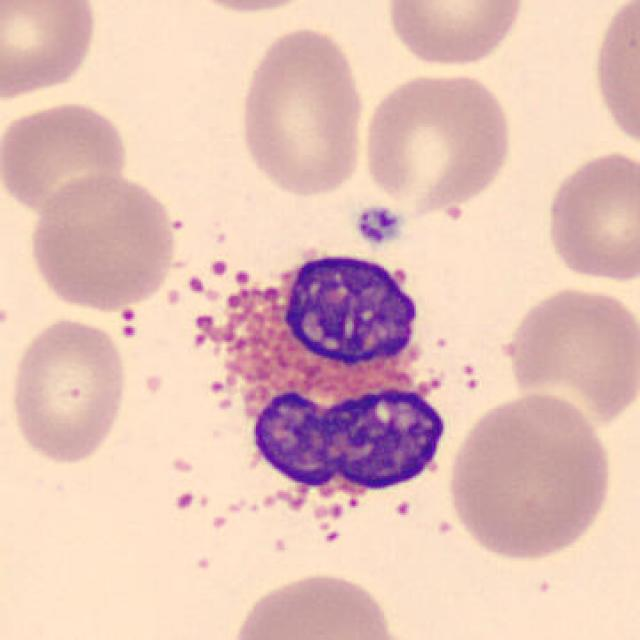Eosinophil: (172, 234, 464, 545)
Platelets: (350, 201, 407, 249)
RBC: (441, 388, 617, 564), (234, 21, 370, 201), (358, 67, 516, 219), (25, 169, 183, 314), (500, 280, 638, 432), (3, 312, 134, 467), (2, 97, 132, 219), (540, 146, 638, 286), (224, 567, 409, 640), (0, 0, 101, 104), (382, 0, 528, 71), (588, 0, 640, 159), (171, 0, 327, 16)
